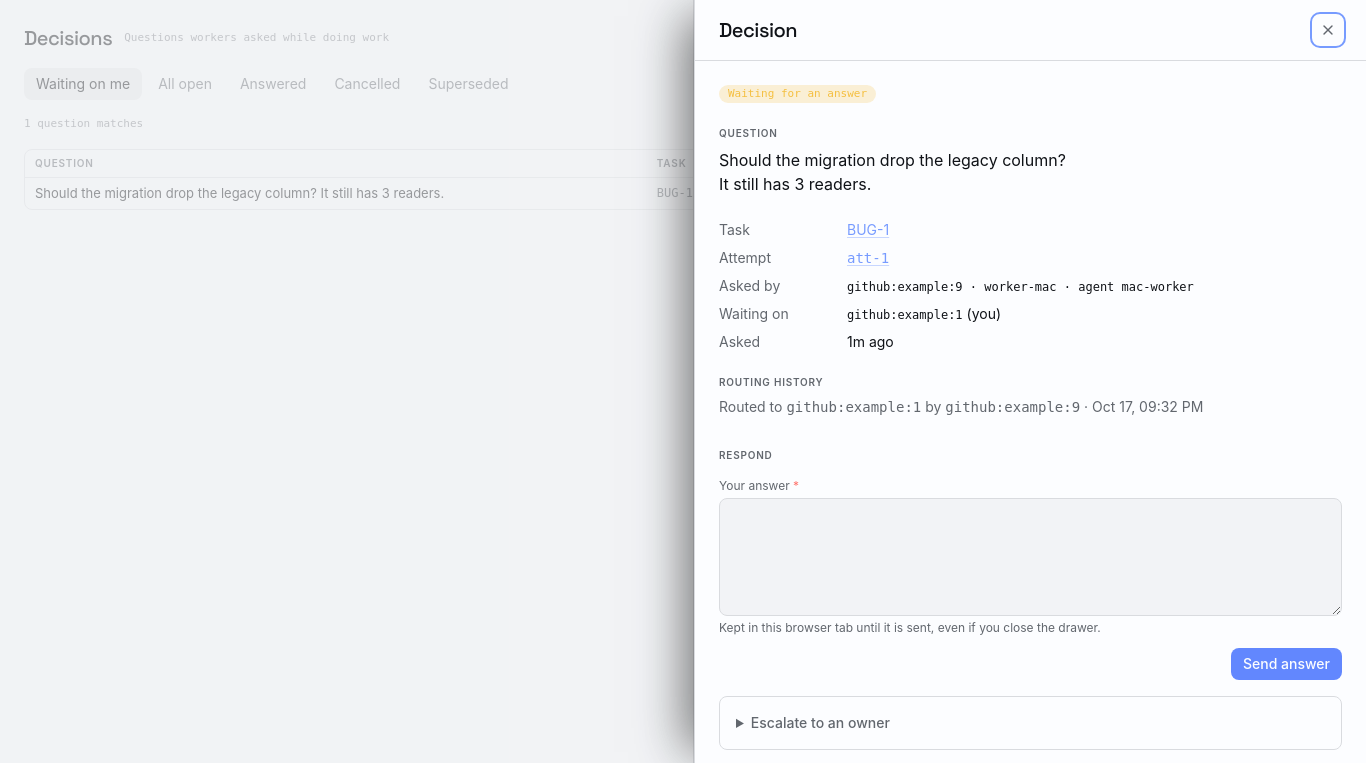
Test: a draft survives closing and reopening the drawer
Type "Half written" into the text box labelled "Your answer *" at (1030, 557), box [719,498,1342,616]
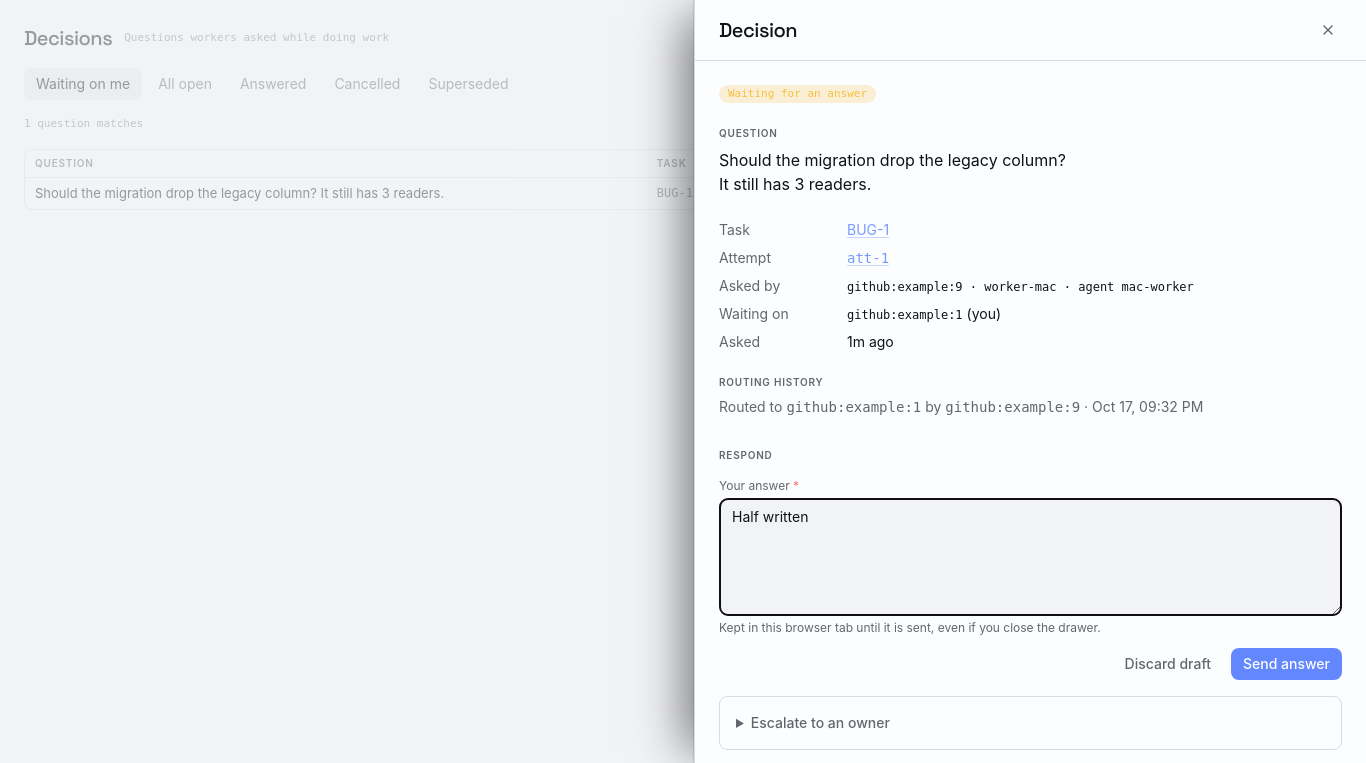
Click the button named "Close" at (1328, 30), box [1314,16,1342,44]
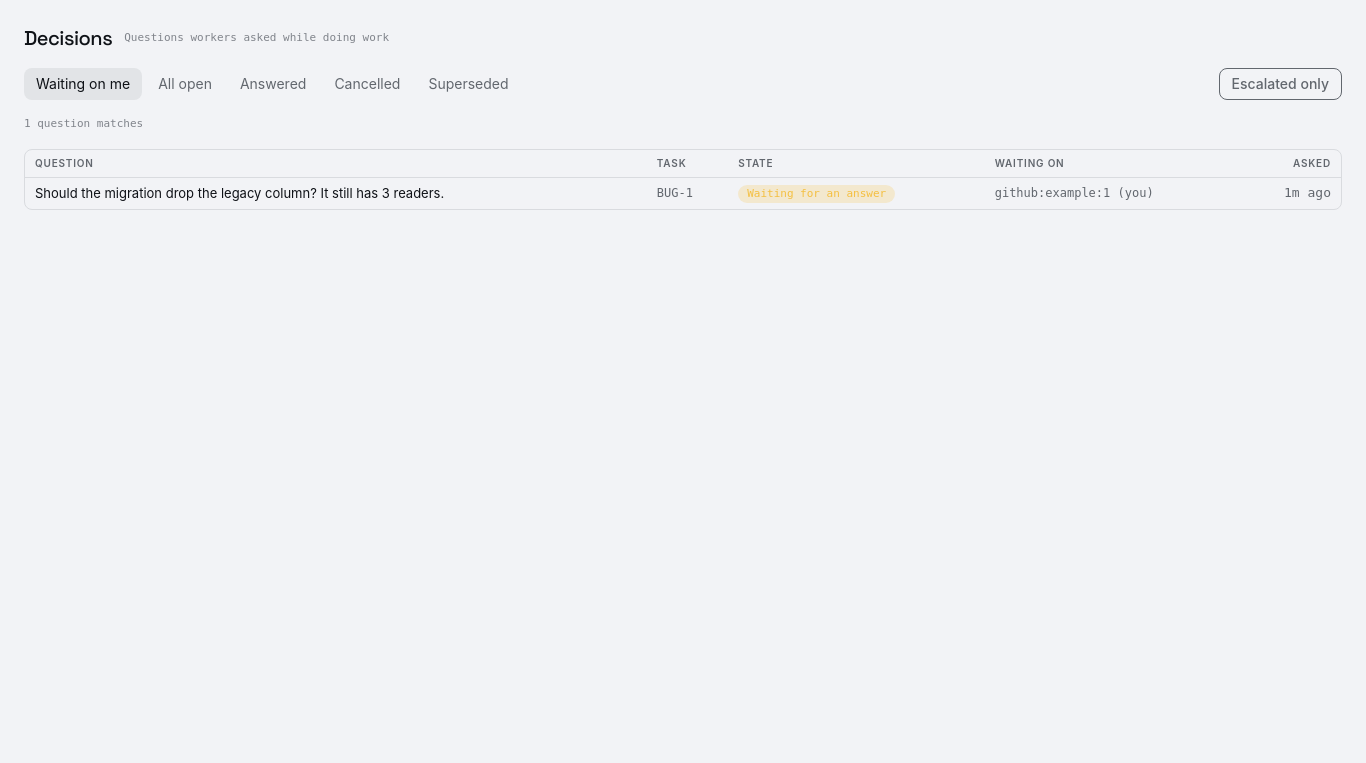
Click the link "Should the migration" at (240, 193), box [35,185,444,201]
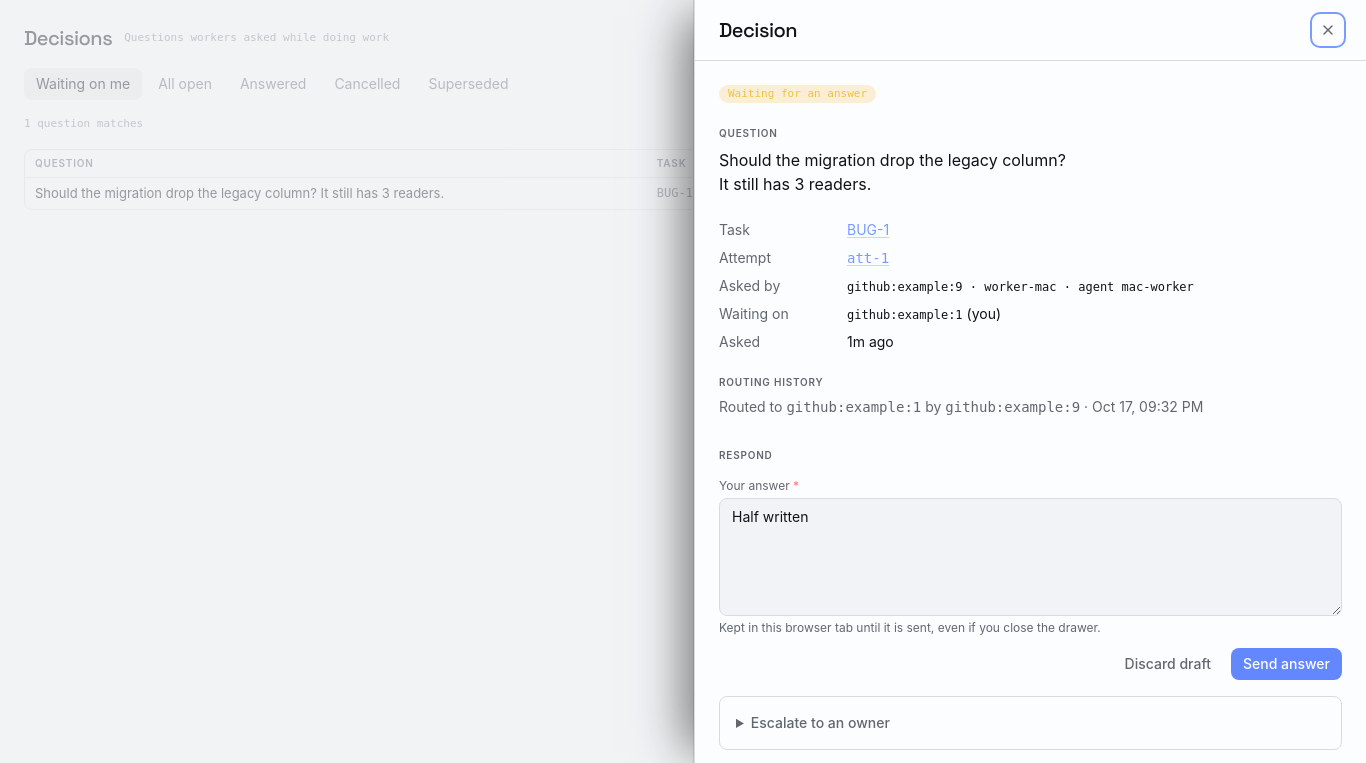
Expected: the text box labelled "Your answer *" holds "Half written", [719,498,1342,616]
